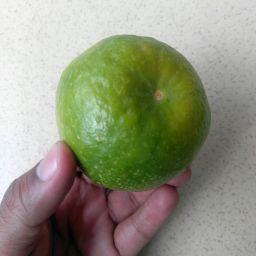Unripe: (58, 35, 213, 191)
